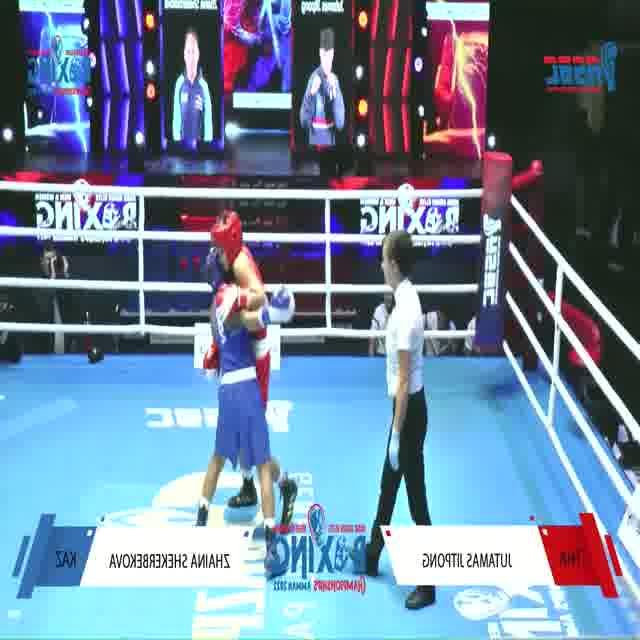blue-player: (189, 240, 298, 582)
red-player: (198, 200, 297, 537)
referee: (350, 229, 450, 617)
